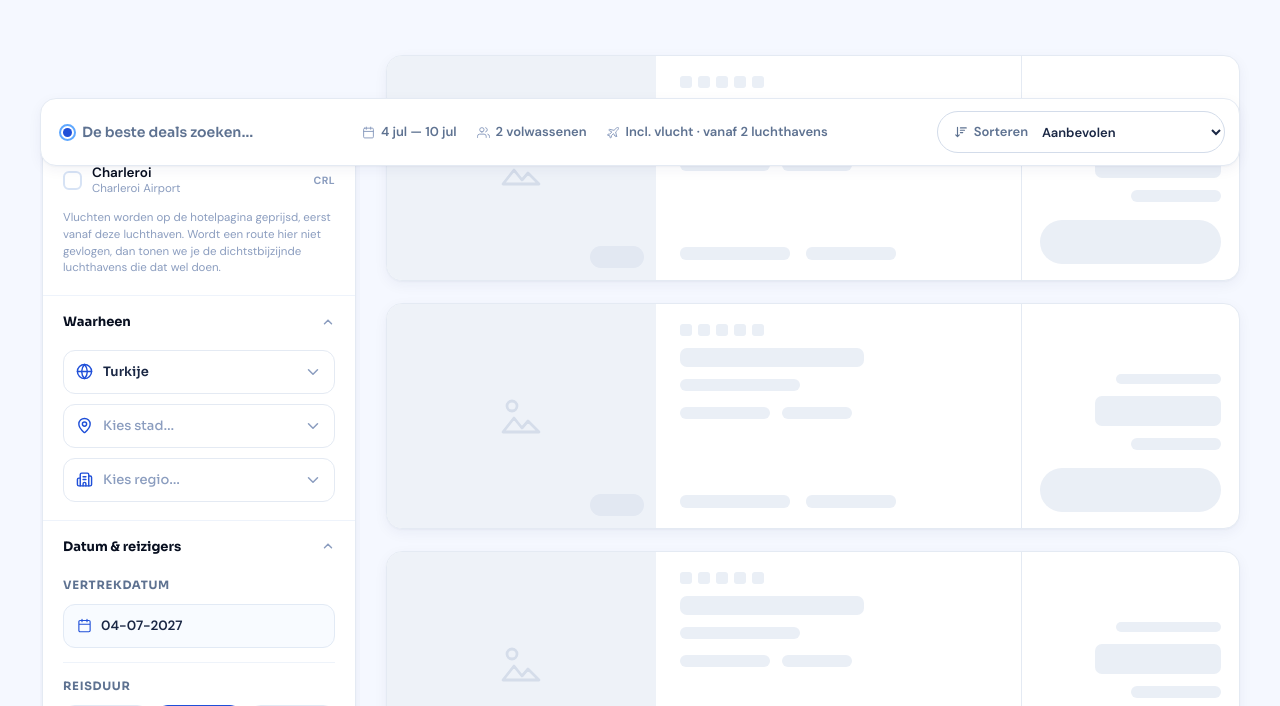
Scenario: Results: ask before dropping airports that clash with a new Where pick › names the airport that does not fit and holds the pick
(page scrolled)
Press the mouse on the dropdown with test id "scope-city" at (198, 426), box top-left (103, 417), bottom-right (294, 434)
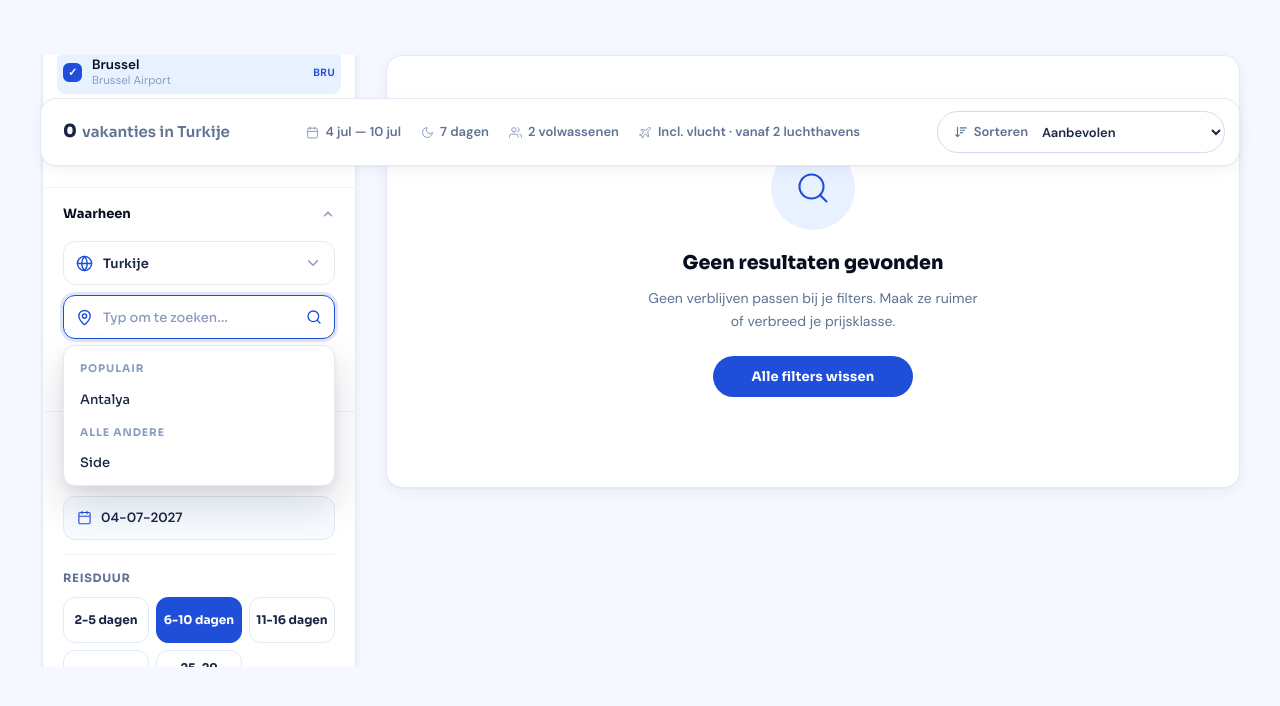
Click the option "Side" at (199, 463), box top-left (70, 446), bottom-right (328, 479)
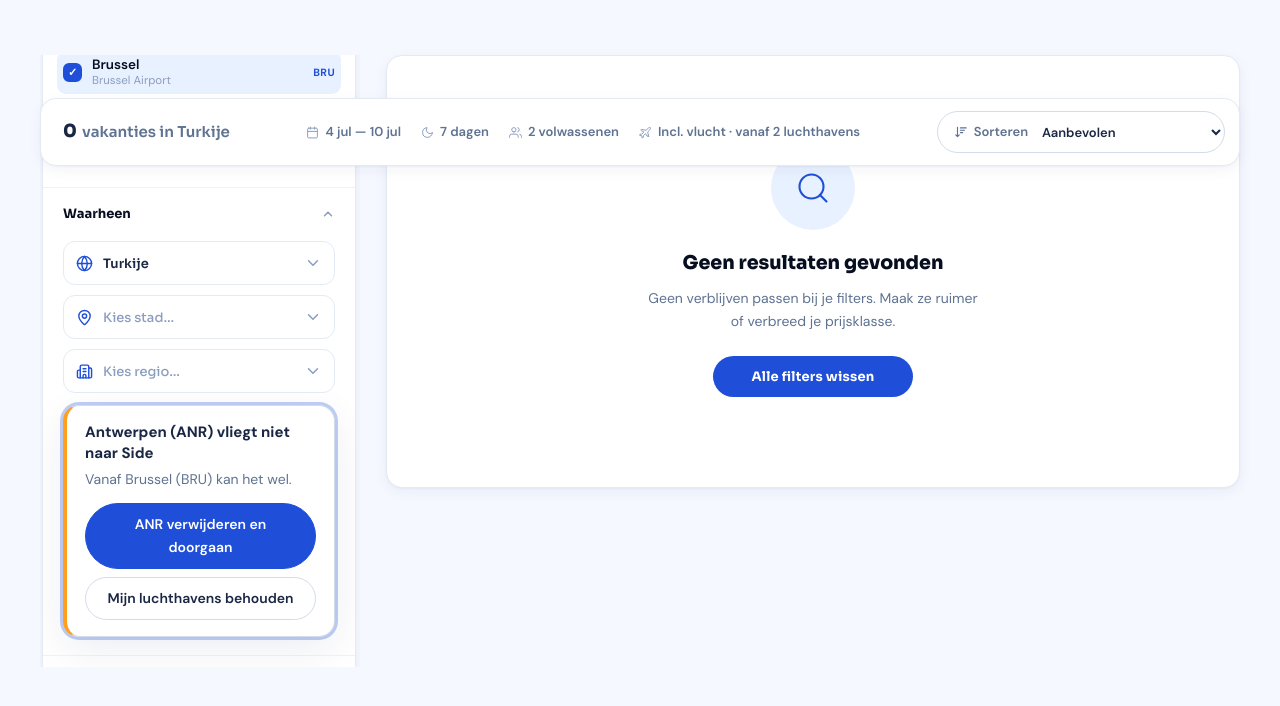
Result: the dialog shows "Antwerpen (ANR) vliegt niet naar Side" at top-left (85, 422), bottom-right (290, 463)
Result: the dialog shows "Vanaf Brussel (BRU) kan het wel." at top-left (85, 470), bottom-right (292, 488)
